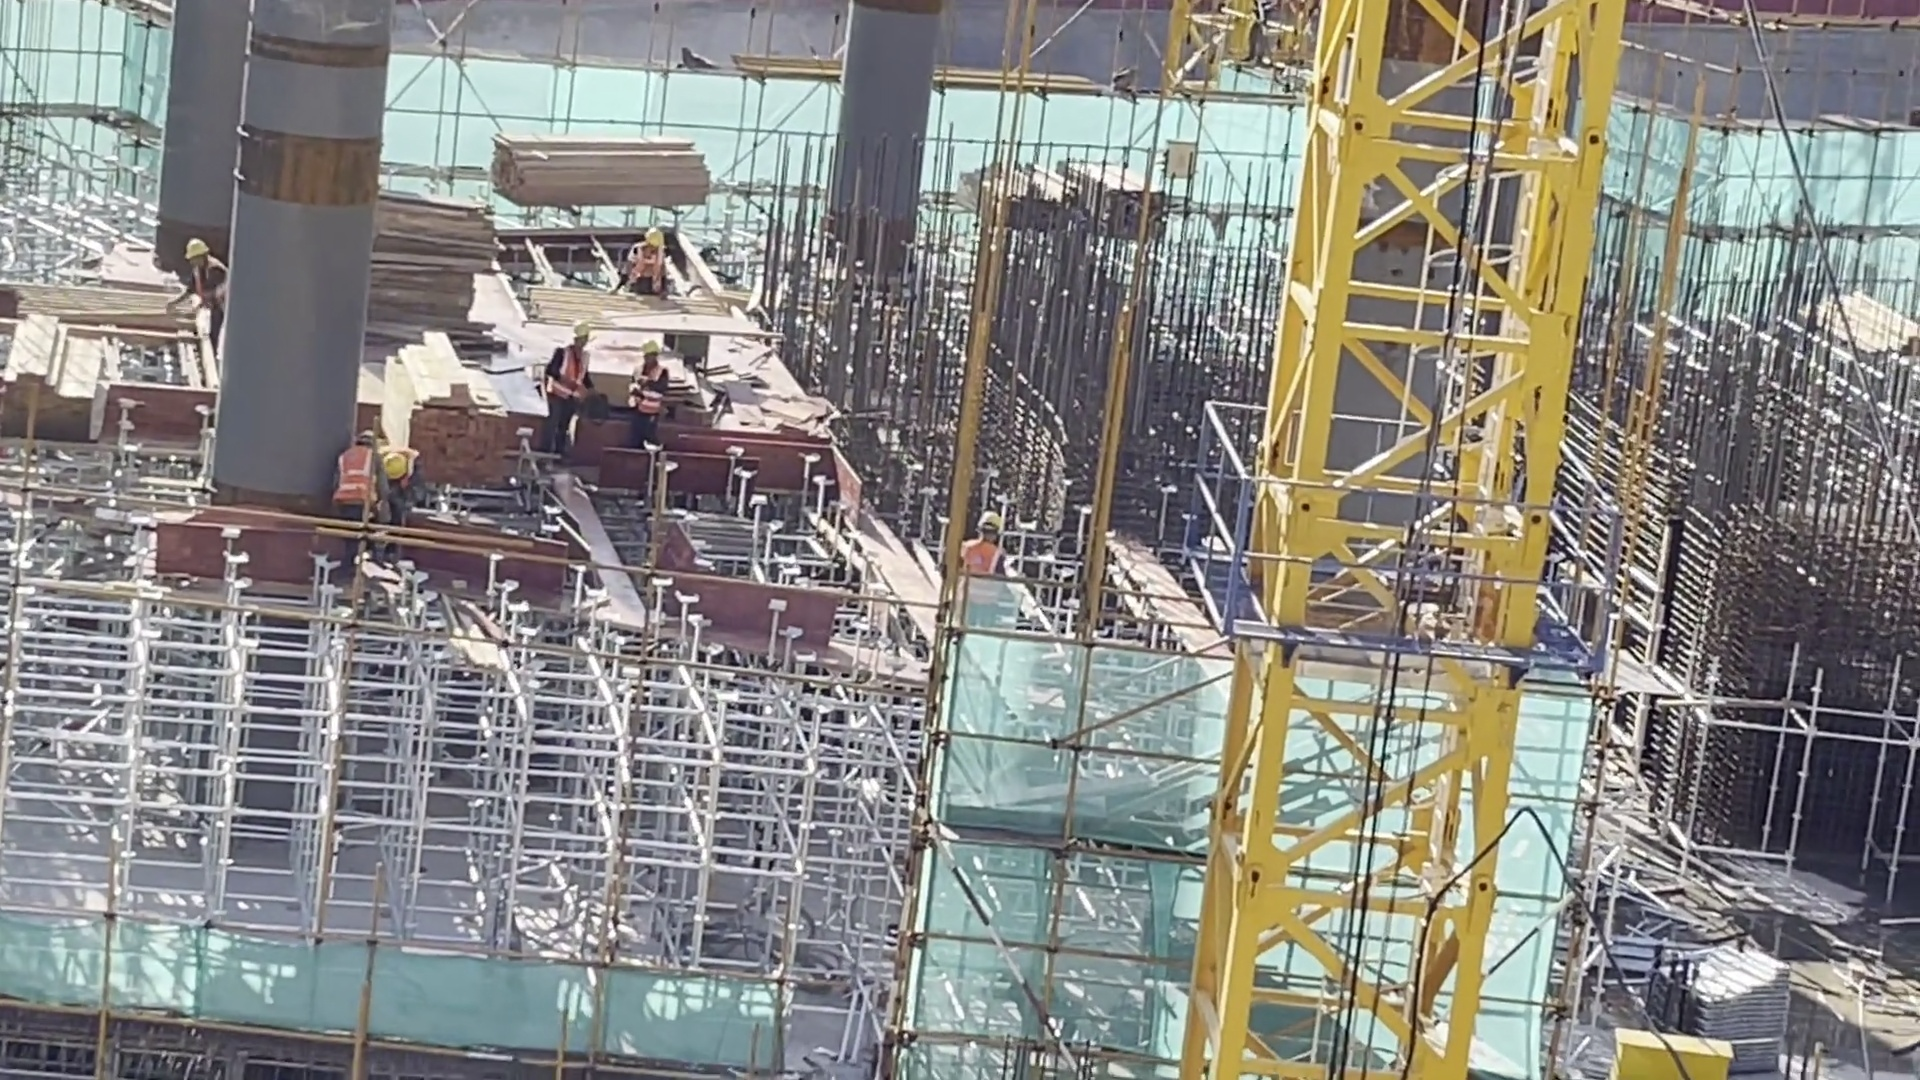cutter: (602, 309, 775, 368)
ebox: (1600, 1021, 1741, 1080)
helmet: (978, 513, 1002, 540), (644, 227, 667, 255), (381, 452, 403, 479), (186, 237, 210, 261), (570, 320, 594, 343), (637, 341, 661, 357)
person: (543, 319, 597, 463), (185, 240, 229, 357), (622, 342, 664, 460), (615, 223, 670, 300), (336, 429, 380, 526), (961, 510, 1012, 586), (374, 448, 419, 532)
scaffold: (1656, 939, 1790, 1080)
vest: (542, 349, 588, 408), (628, 366, 666, 426), (340, 443, 373, 507), (631, 246, 672, 297), (191, 259, 228, 313), (959, 539, 1004, 571)
wood: (346, 193, 498, 351), (405, 359, 533, 532), (486, 127, 711, 216), (1, 305, 120, 439)
